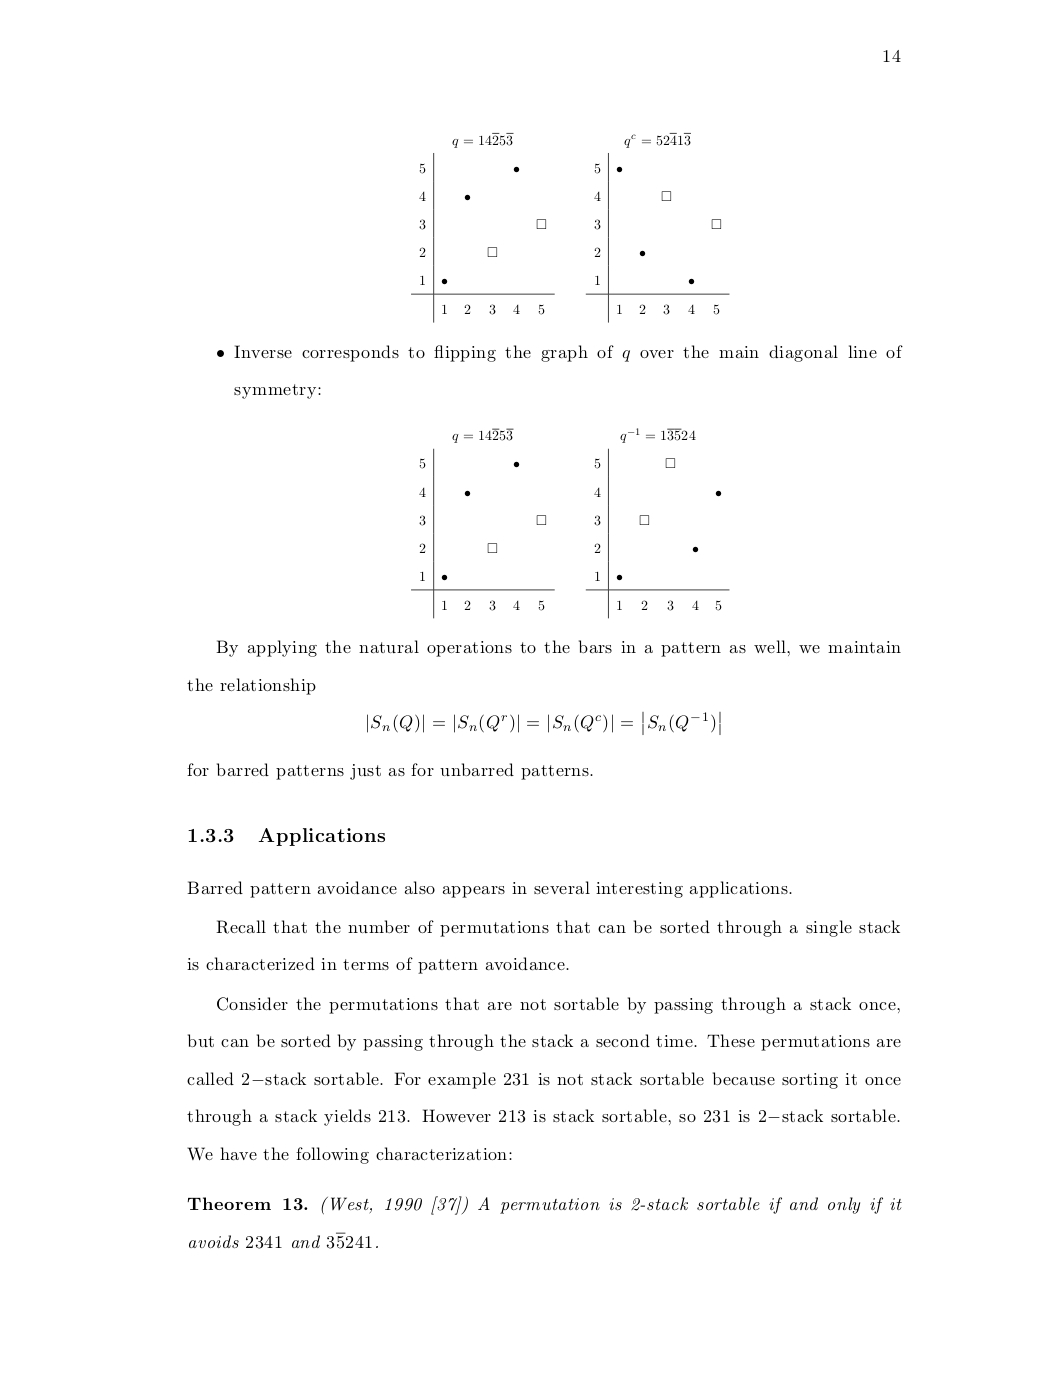figure: (585, 448, 729, 619), (585, 153, 729, 322), (411, 448, 554, 619), (411, 153, 554, 322)
formula: (367, 710, 720, 736)
